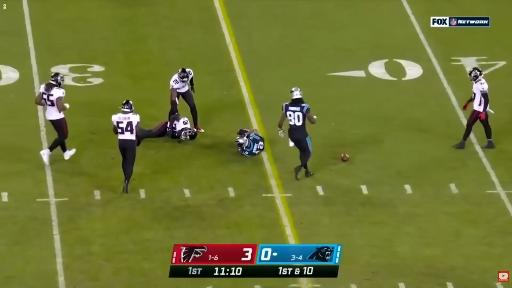Helmet: (468, 67, 483, 82), (180, 128, 197, 140), (50, 73, 63, 87), (121, 100, 134, 113), (235, 136, 249, 148), (178, 68, 189, 82), (291, 88, 302, 99)
Jersey: (283, 103, 310, 138), (40, 84, 65, 119), (112, 113, 140, 139), (240, 133, 264, 156), (171, 69, 193, 92), (473, 79, 488, 111), (171, 118, 190, 135)
Player: (35, 73, 75, 165), (279, 88, 316, 179), (454, 68, 494, 149), (112, 100, 140, 193), (169, 68, 203, 132), (137, 114, 197, 146), (236, 129, 264, 156), (168, 114, 197, 140)
